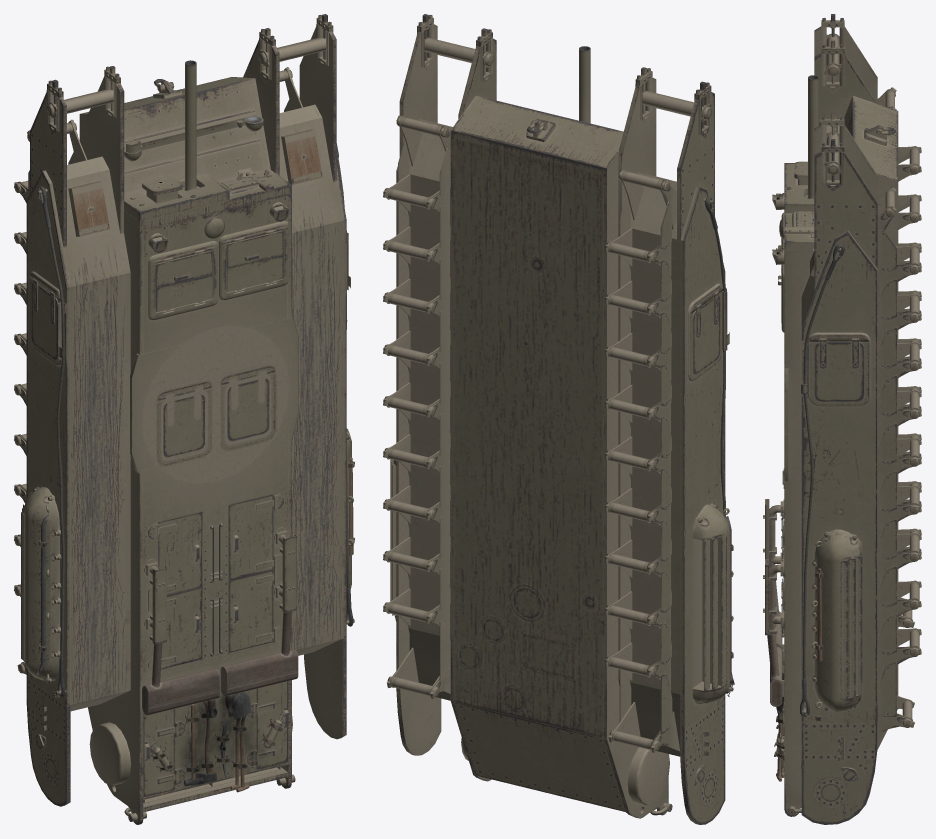
The model's file is Hull.glb.
3 renders of one model, left to right at view 1: azimuth 30°, elevation 25°; view 2: azimuth 150°, elevation 25°; view 3: azimuth 270°, elevation 25°, orthographic. The views are drawn at different scales.
Visible parts, largest first — view 1: set_0_group_0; view 2: set_0_group_0; view 3: set_0_group_0.
Boxes of the visible parts, x1,y1,x2,y2 form: set_0_group_0: (14, 14, 354, 824); set_0_group_0: (383, 14, 734, 824); set_0_group_0: (763, 14, 921, 824).
Size of the model in its own units: 3.24 by 7.08 by 1.44.
Materials: 1 (1 with a texture image).
